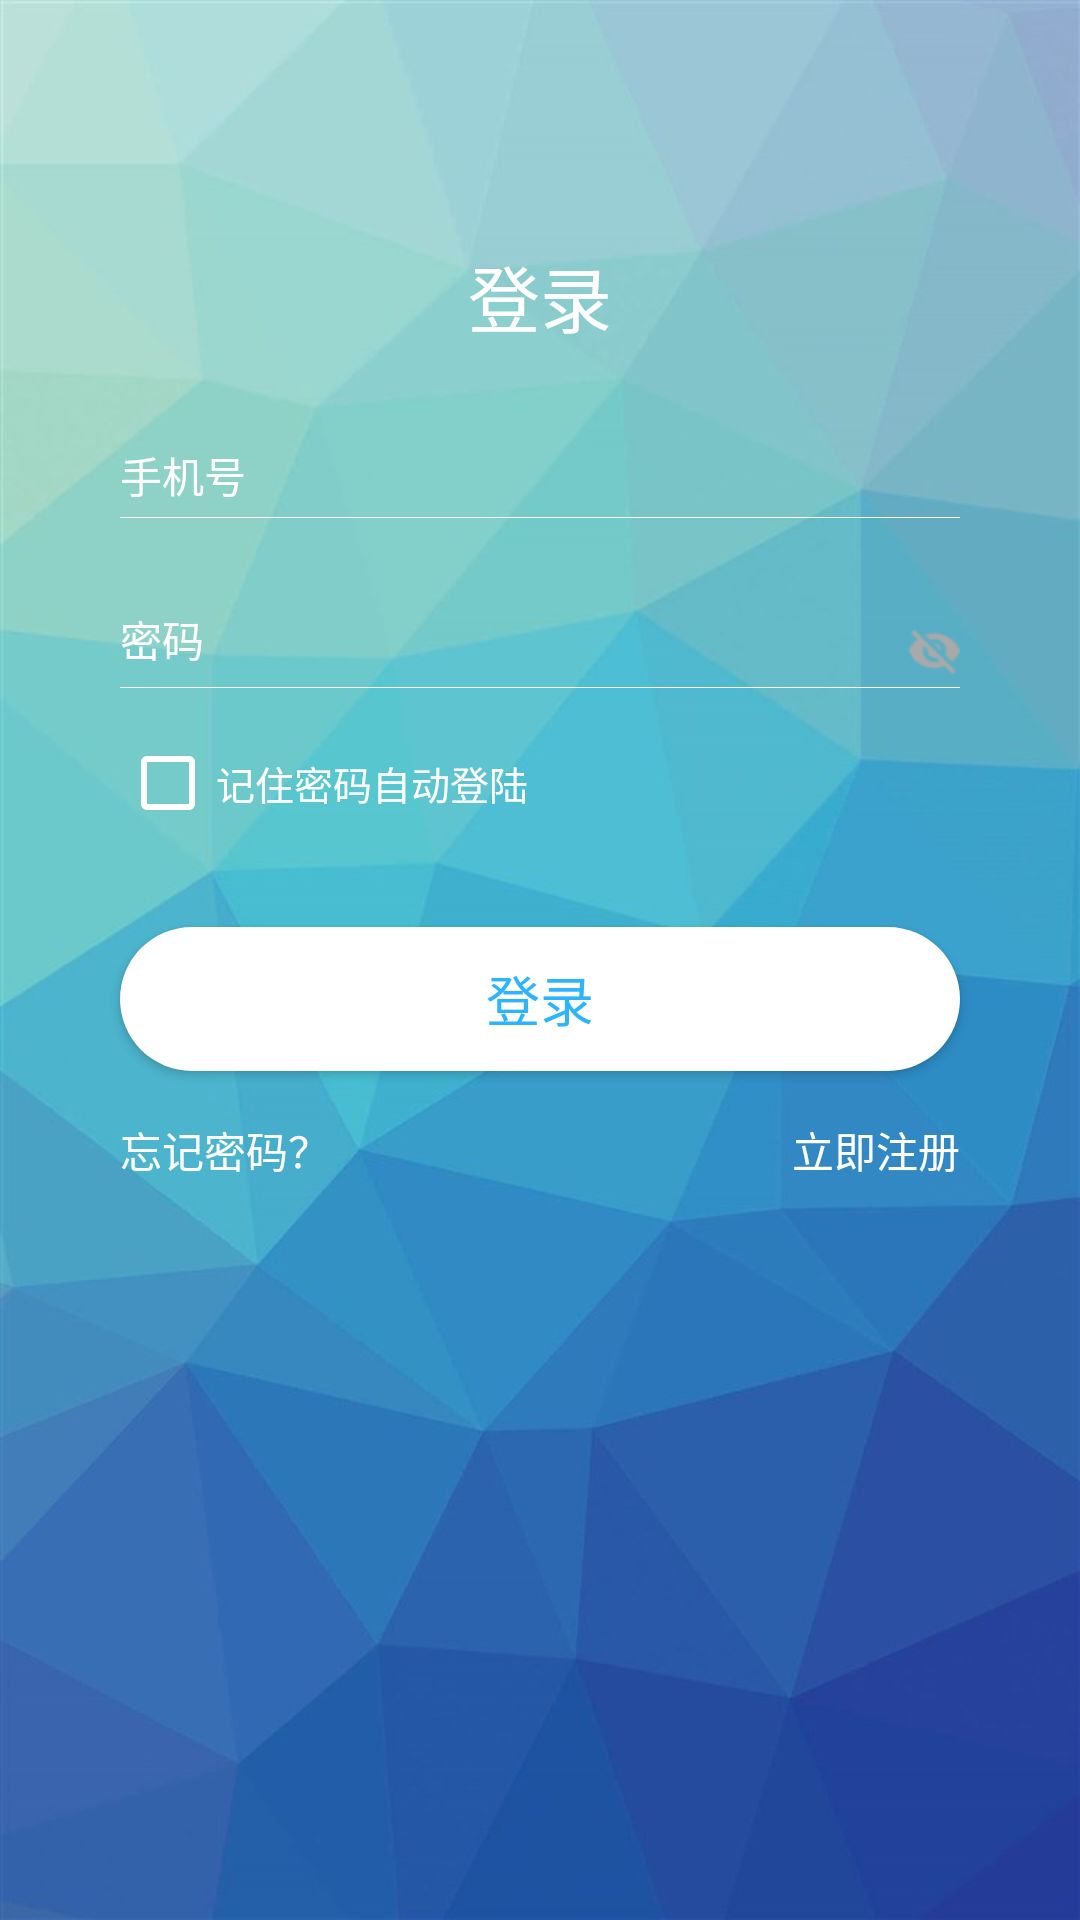

Icons on this 1080 x 1920 Android screen, each with the point to tap as (x,y):
show password: (934,651)
